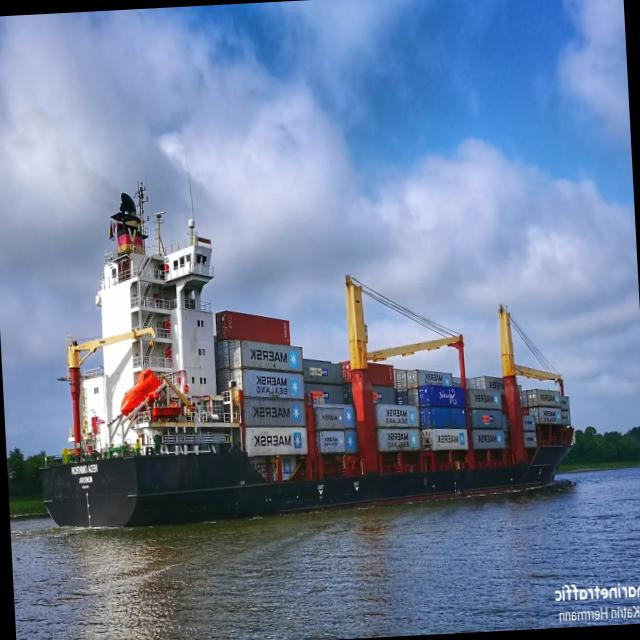Cargo: (42, 186, 574, 527)
